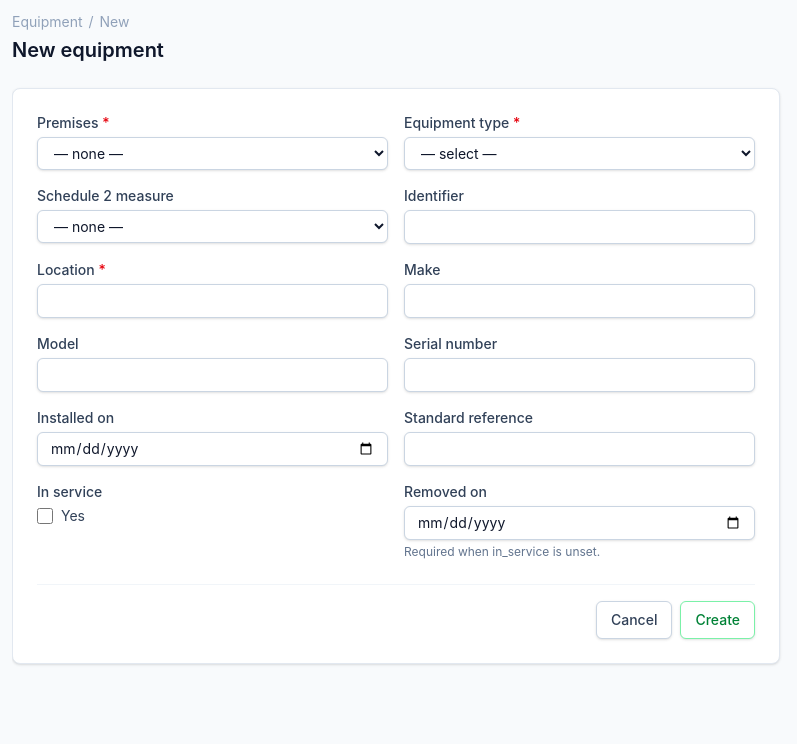
Scenario: EquipmentFormPage › shows the server's rejection without navigating away
What coordinates should you click on to do the following:
click the button "Create"
I would click on:
 (718, 620)
Its box is top-left (680, 601), bottom-right (755, 639).
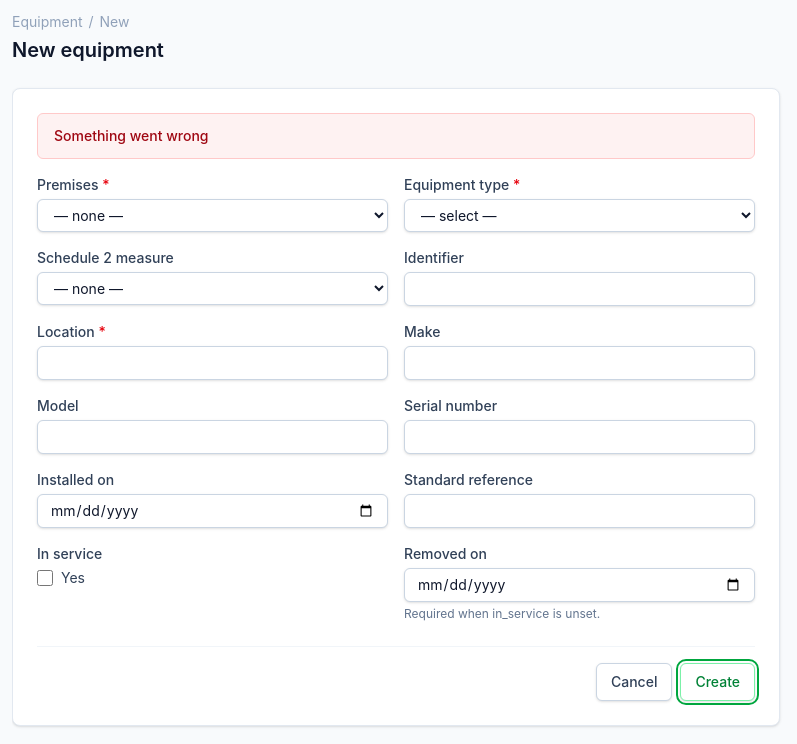
Result: the text "Something went wrong" is shown at top-left (54, 127), bottom-right (208, 144)
